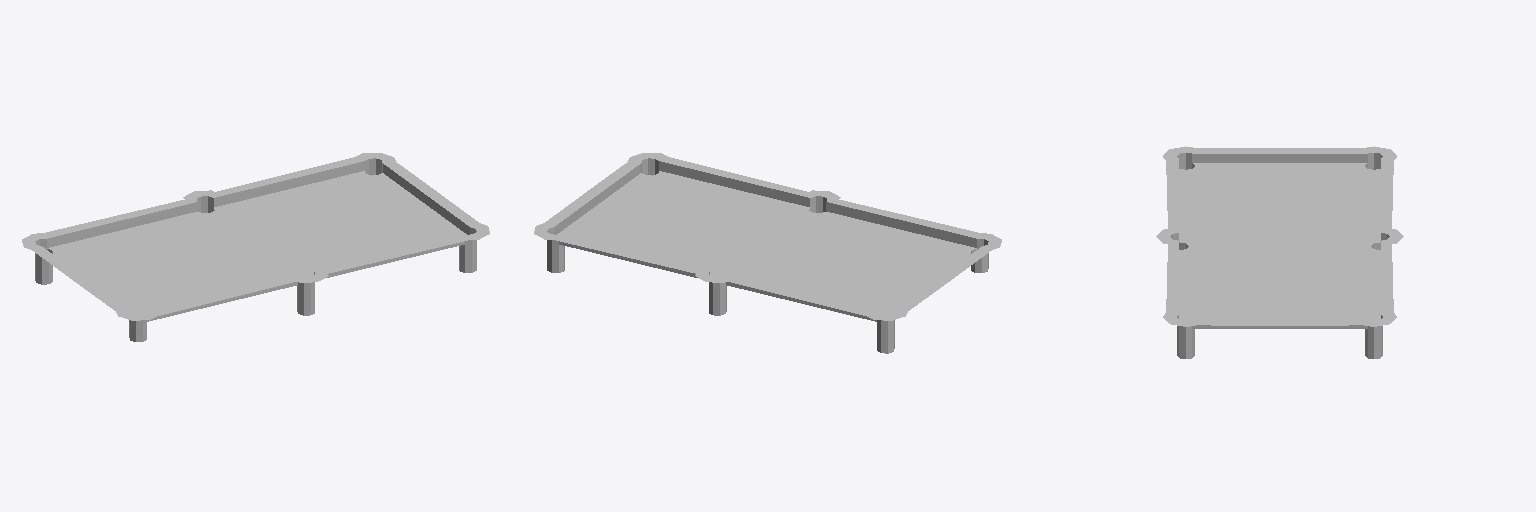
Rendered from stol_collider2.obj.
3 views of the same model, side by side, from view 1: azimuth 30°, elevation 25°; view 2: azimuth 150°, elevation 25°; view 3: azimuth 270°, elevation 25° (orthographic).
Parts seen in each view (by area): view 1: Cylinder.001; view 2: Cylinder.001; view 3: Cylinder.001.
Boxes of the visible parts, x1,y1,x2,y2 form: Cylinder.001: [22, 153, 489, 341]; Cylinder.001: [534, 153, 1001, 353]; Cylinder.001: [1156, 146, 1403, 358].
Size of the model in its own units: 1.94 by 0.1932 by 1.13.